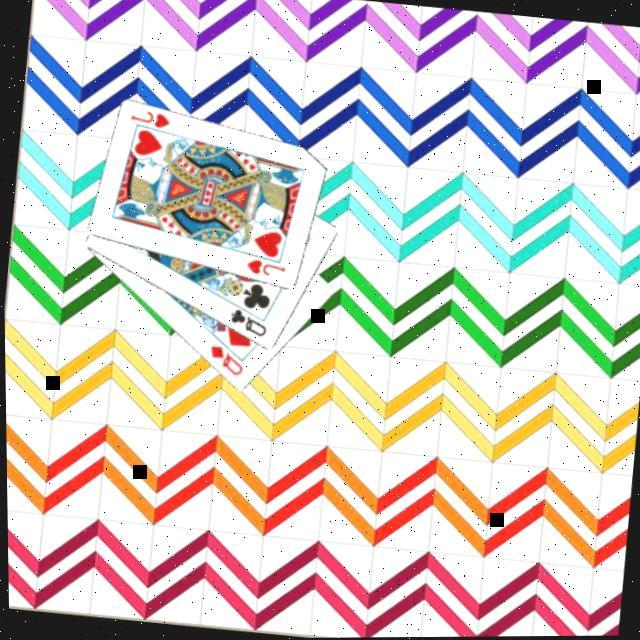JH: (239, 257, 287, 283), (126, 108, 172, 134)
QC: (222, 306, 270, 342)
QD: (202, 343, 246, 381)
